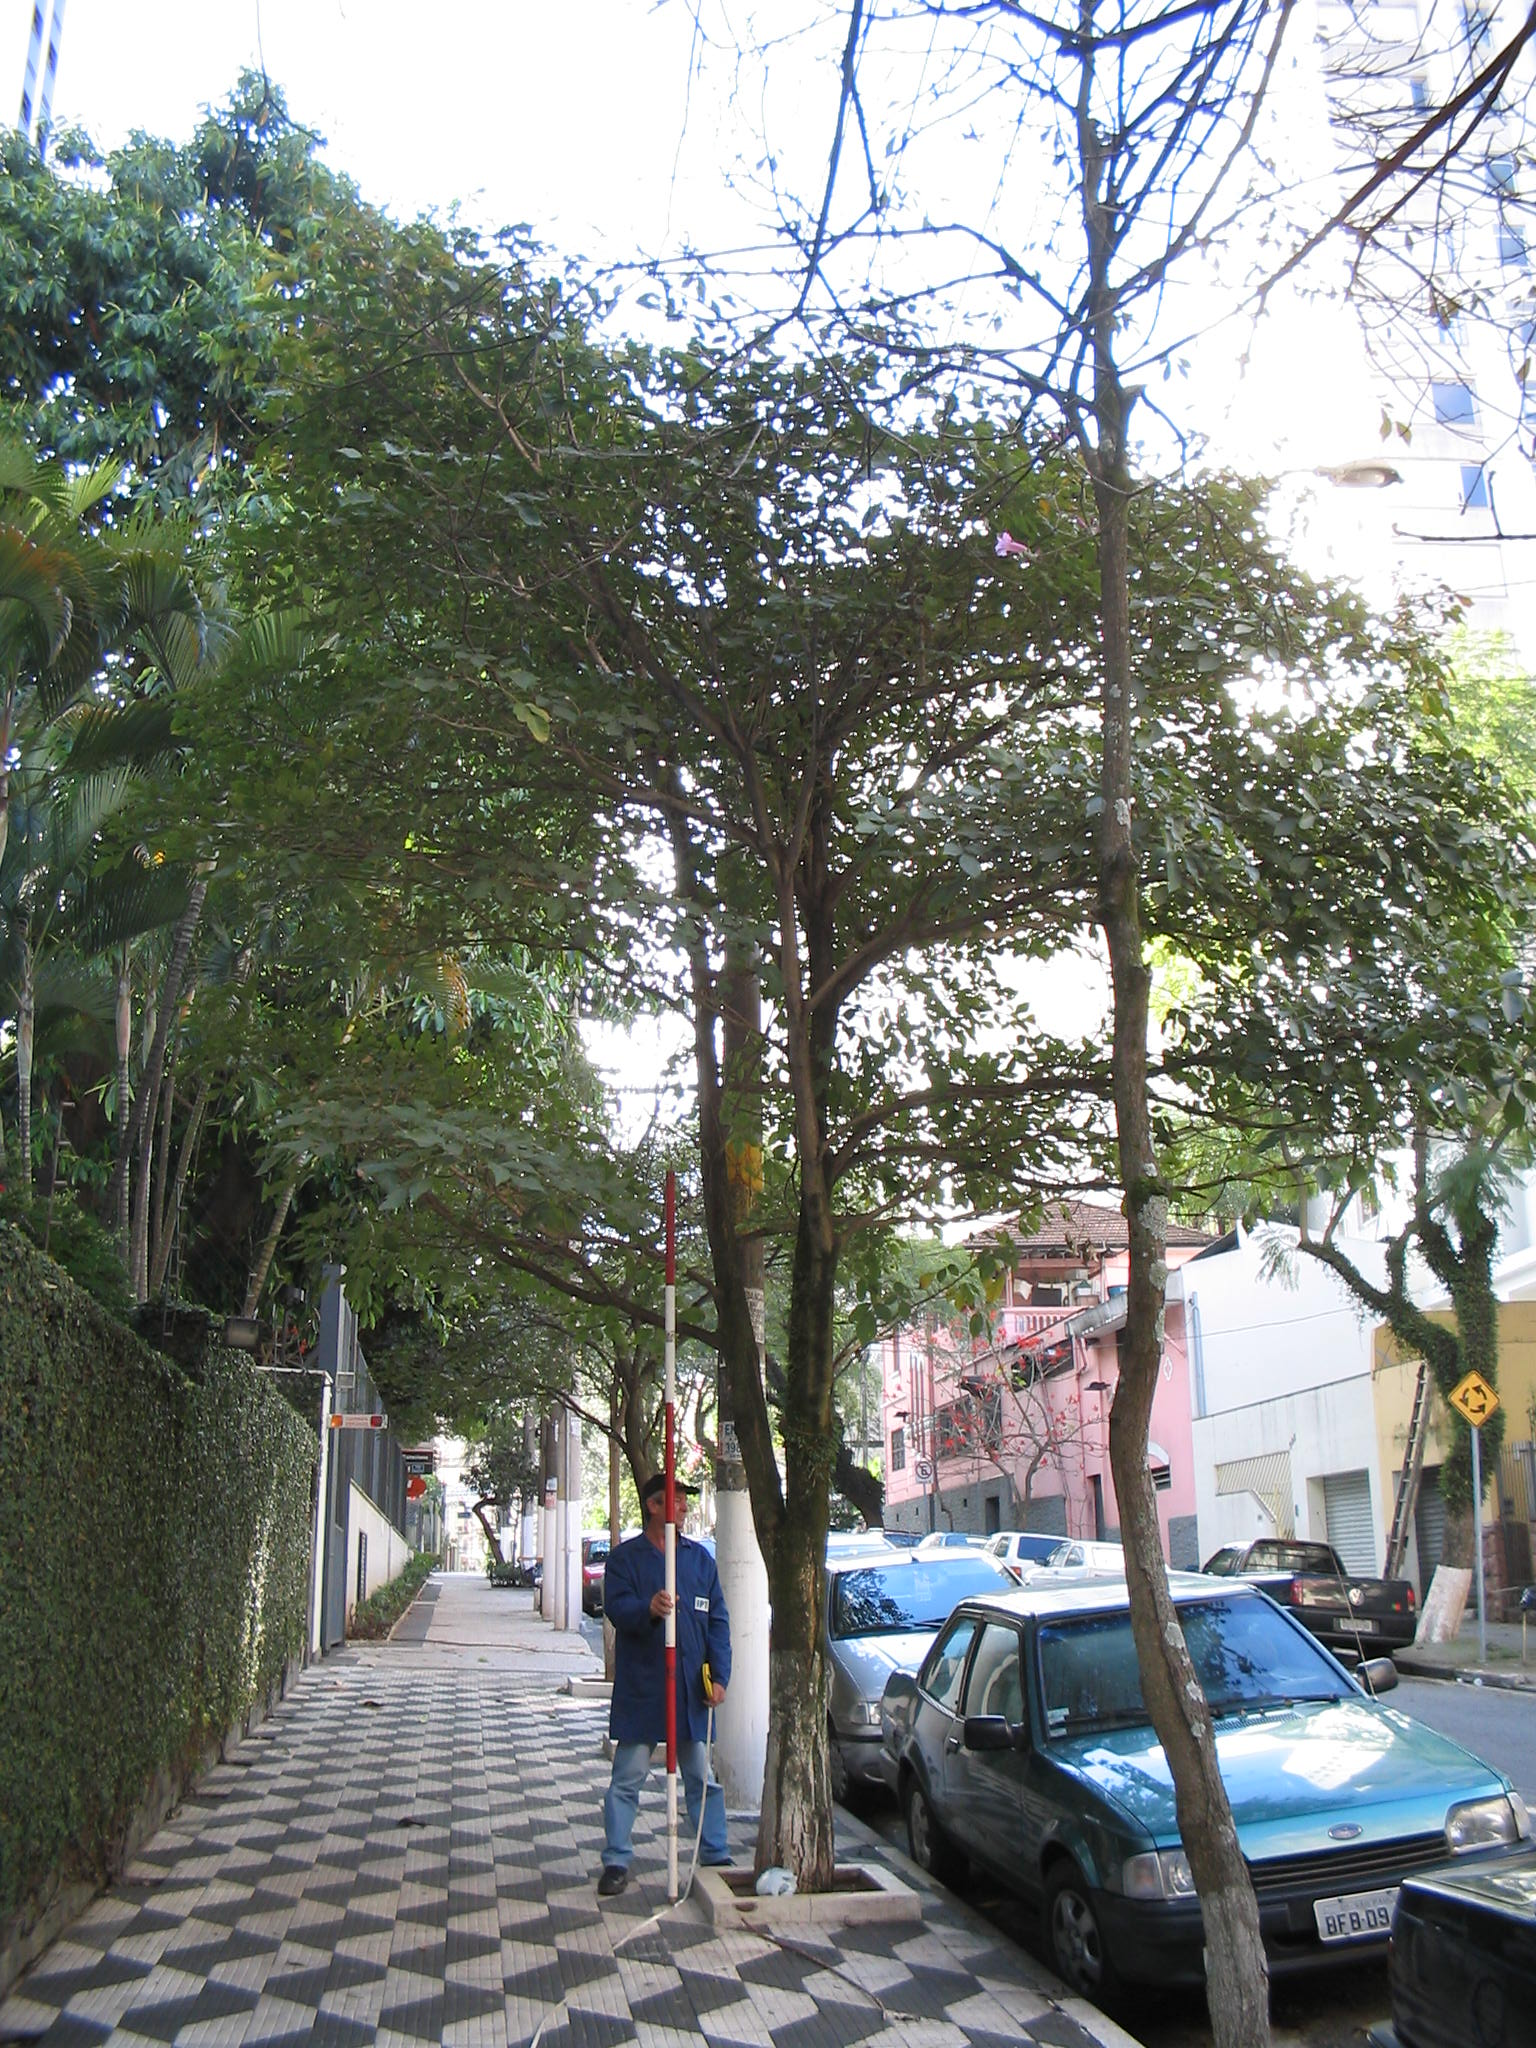crown: (177, 171, 1536, 1337)
stem: (720, 1545, 891, 1892)
stick: (639, 1168, 710, 1898)
tree: (168, 166, 1536, 1901)
